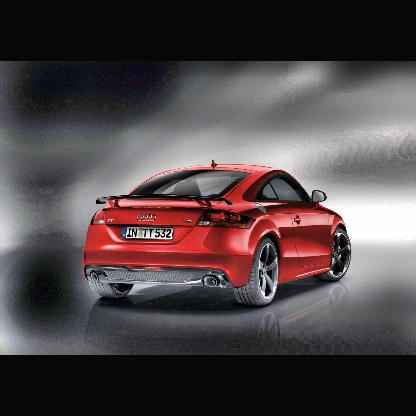Audi TT RS Coupe 2012: (83, 158, 351, 306)
